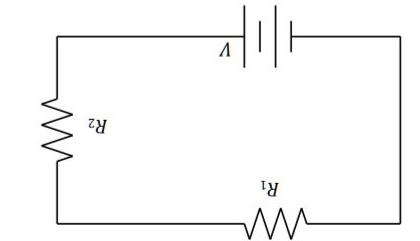Battery: (203, 1, 315, 79)
